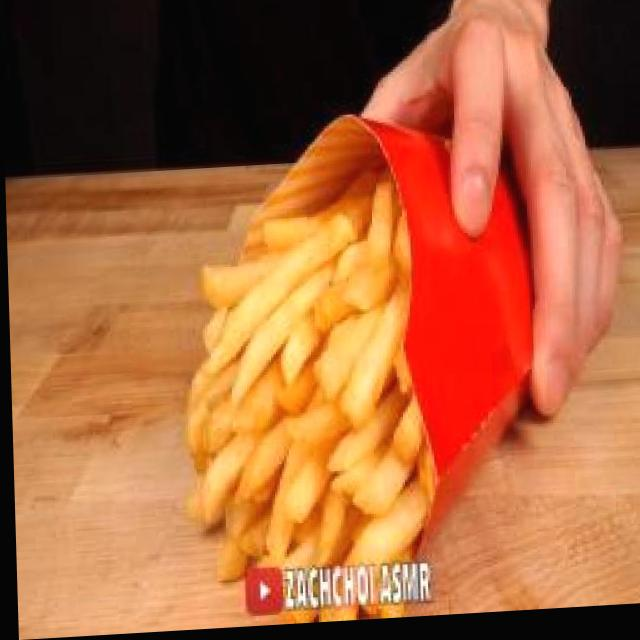french fries: (158, 96, 475, 633)
